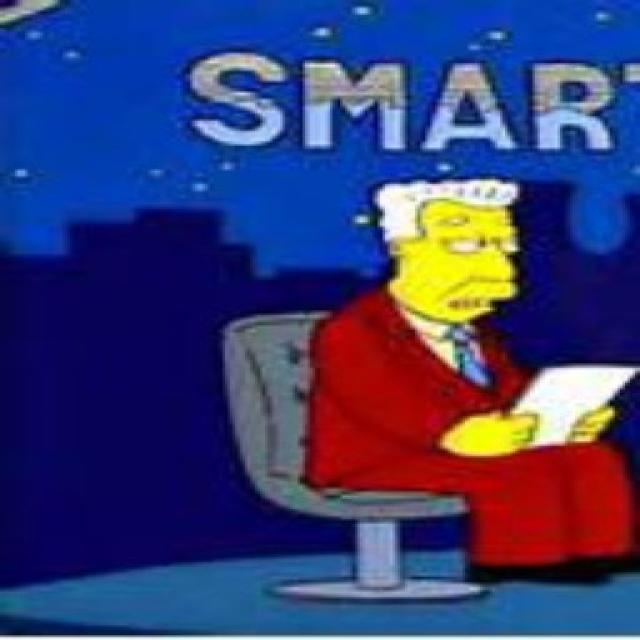Kent Brockman: (368, 177, 528, 330)
